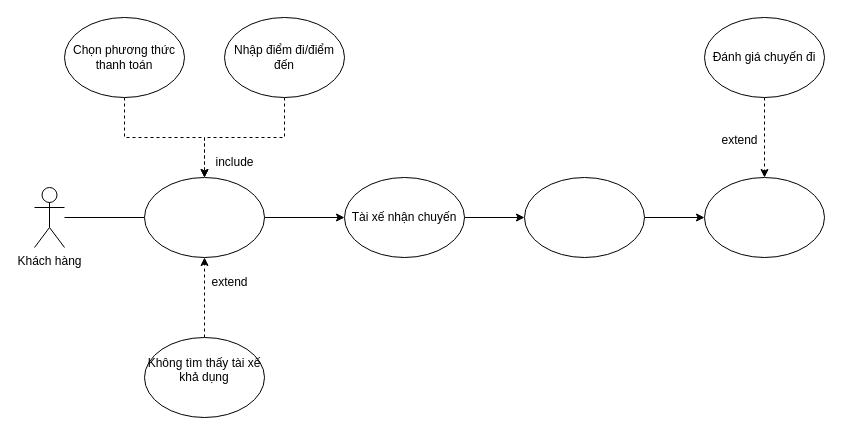
This 842x435 diagram has some shape labels left out. The box of each missing label's shape, as (x1, y1, x2, y2) in pixels:
Hoàn thành chuyến đi: (704, 176, 824, 258)
Thực hiện chuyến đi: (524, 176, 644, 258)
Đặt xe: (144, 176, 264, 258)
